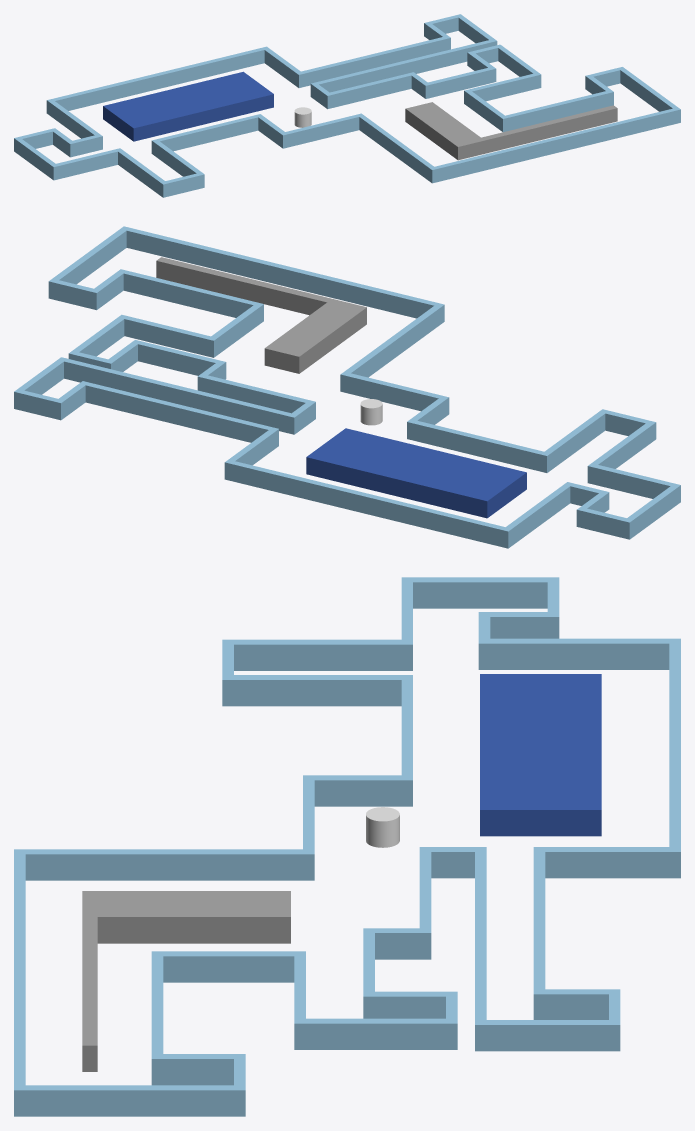
File: my_maze_1.dae
3 views of the same model, one above another, from view 1: azimuth 30°, elevation 25°; view 2: azimuth 150°, elevation 25°; view 3: azimuth 270°, elevation 25° (orthographic). The views are drawn at different scales.
Visible parts, largest first — view 1: Part 1, Part 3, Part 2, Part 4; view 2: Part 1, Part 3, Part 2, Part 4; view 3: Part 1, Part 3, Part 2, Part 4.
Boxes of the visible parts, box(x1,y1,x2,y2) form: Part 1: box(14, 14, 680, 197); Part 3: box(103, 71, 273, 141); Part 2: box(405, 102, 617, 160); Part 4: box(294, 107, 311, 127); Part 1: box(14, 226, 680, 548); Part 3: box(306, 428, 526, 518); Part 2: box(156, 257, 366, 373); Part 4: box(360, 399, 382, 425); Part 1: box(14, 577, 680, 1116); Part 3: box(480, 674, 601, 836); Part 2: box(82, 891, 290, 1071); Part 4: box(366, 807, 399, 847).
Size of the model in its own units: 18.76 by 10.31 by 0.45.
